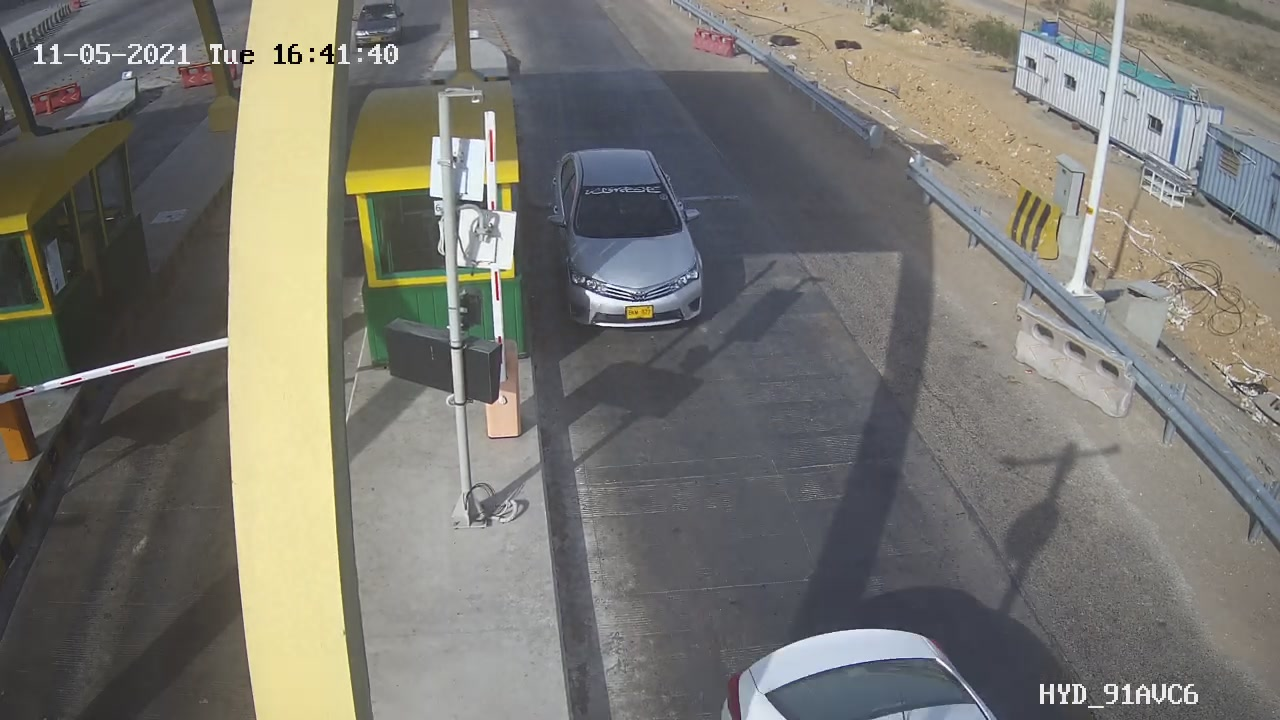F1: (527, 131, 731, 342)
